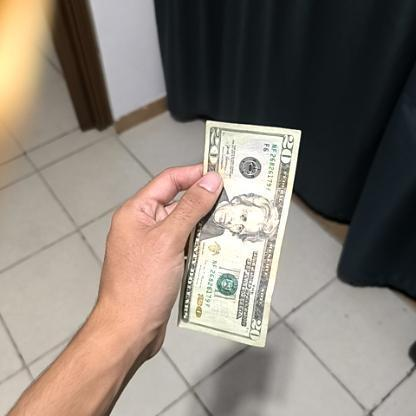twenty-front: (168, 118, 303, 349)
